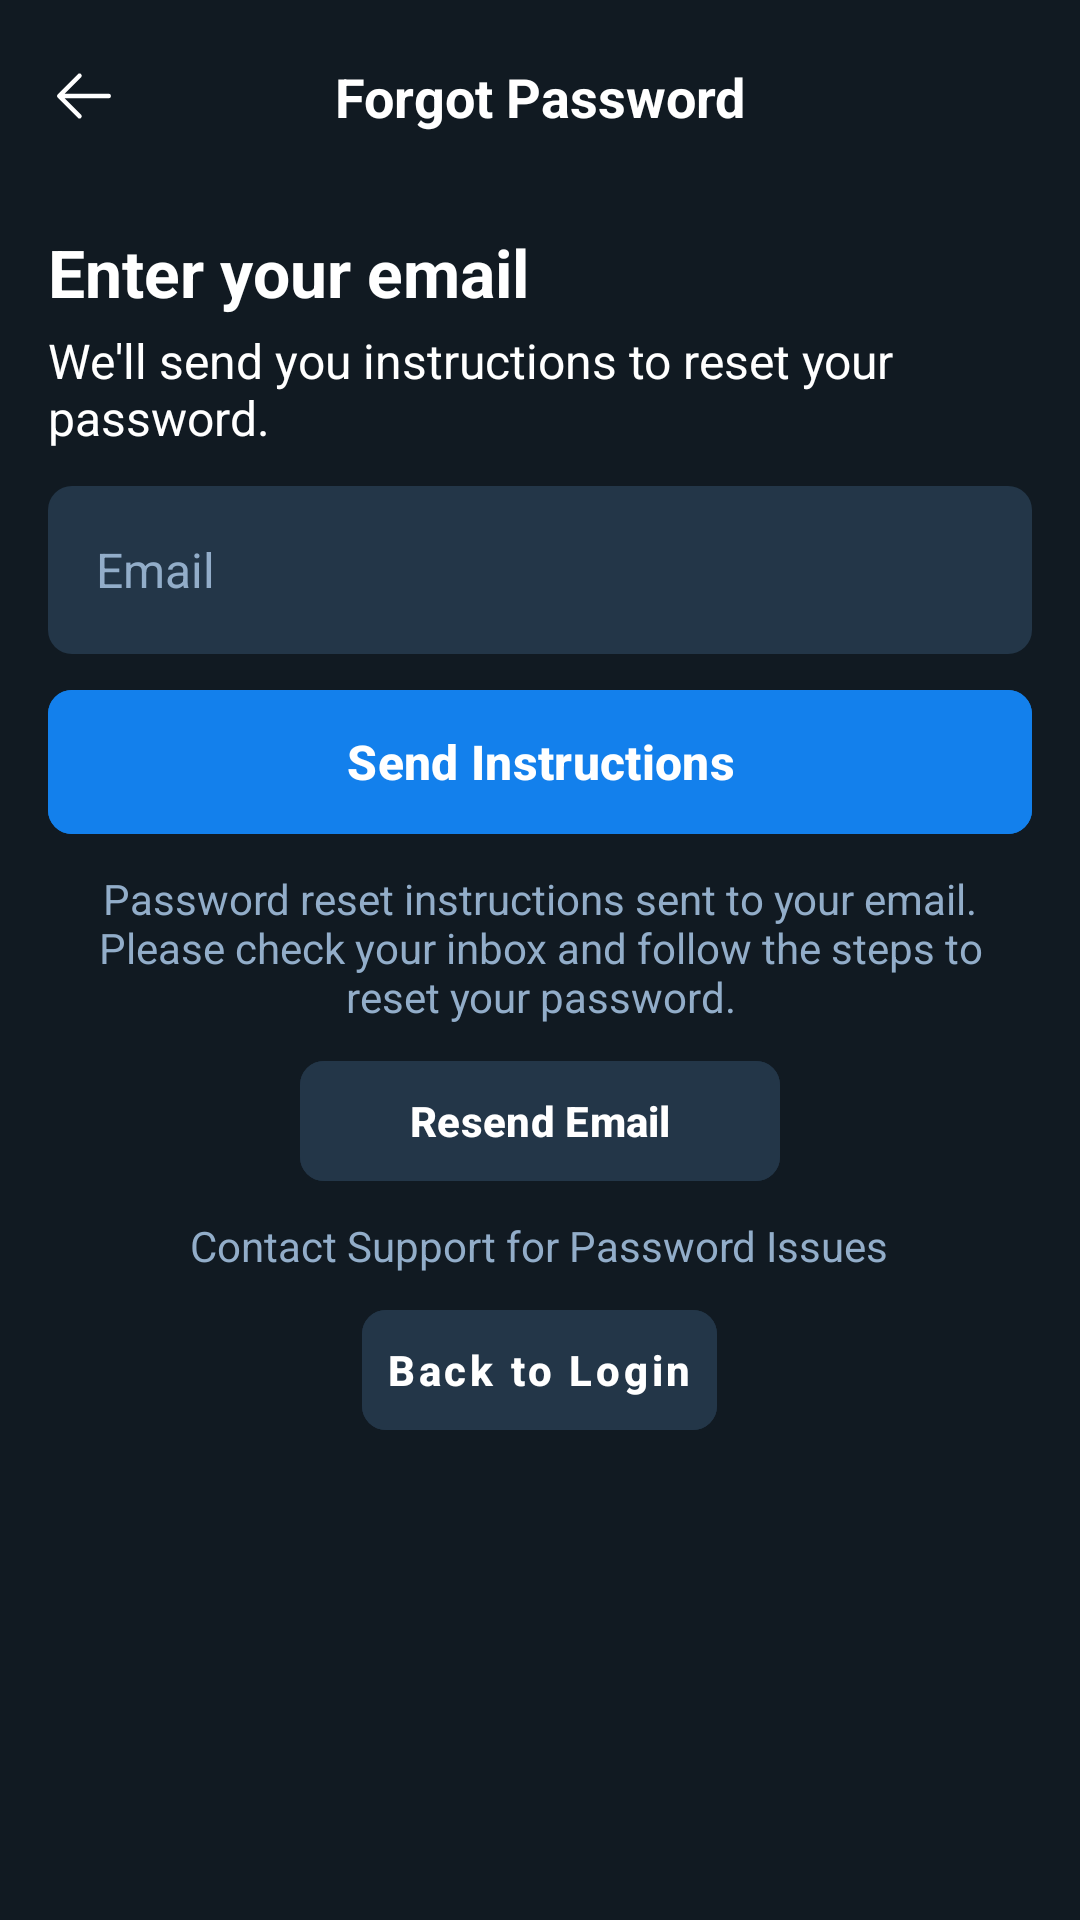

Where icons sit on this 1080*1920 app screen, as (x1, y1, x2, y2):
Go Back: (57, 73, 111, 119)
